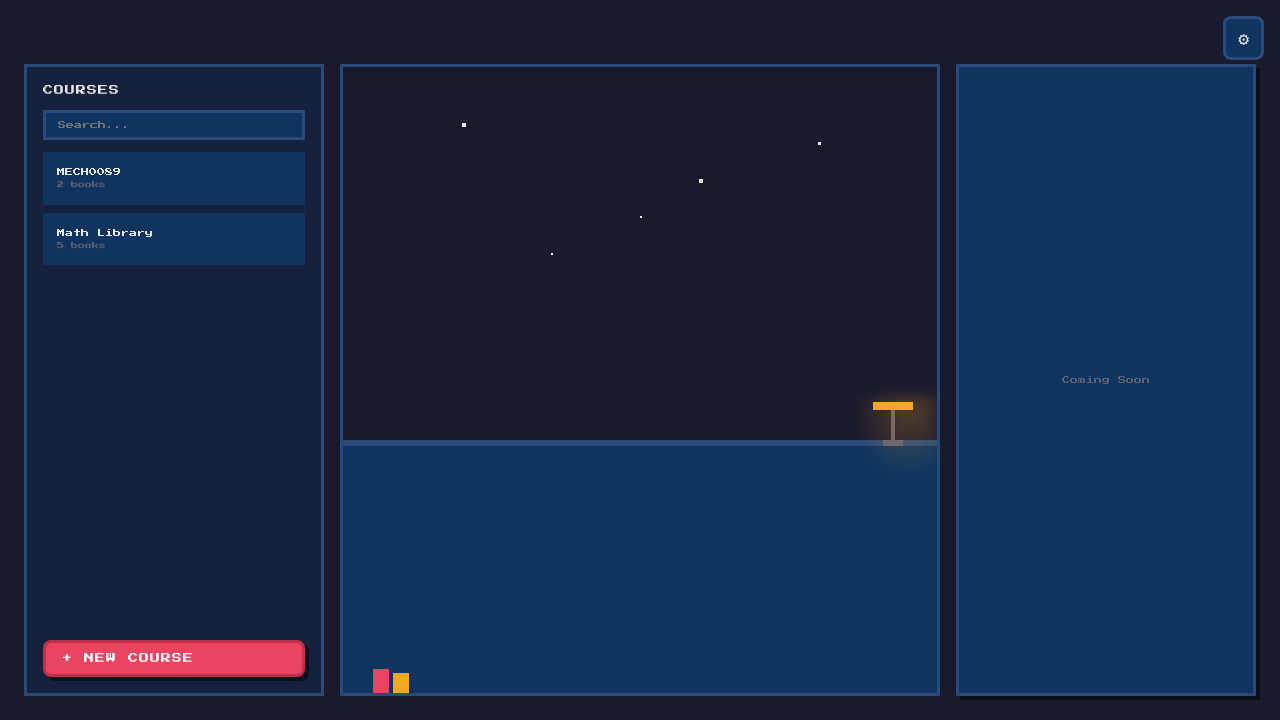
Test: BookshelfPage › Upload dialog opens at choice step with two upload type buttons
Click the button titled "MECH0089": (89, 172) [43, 152, 305, 204]
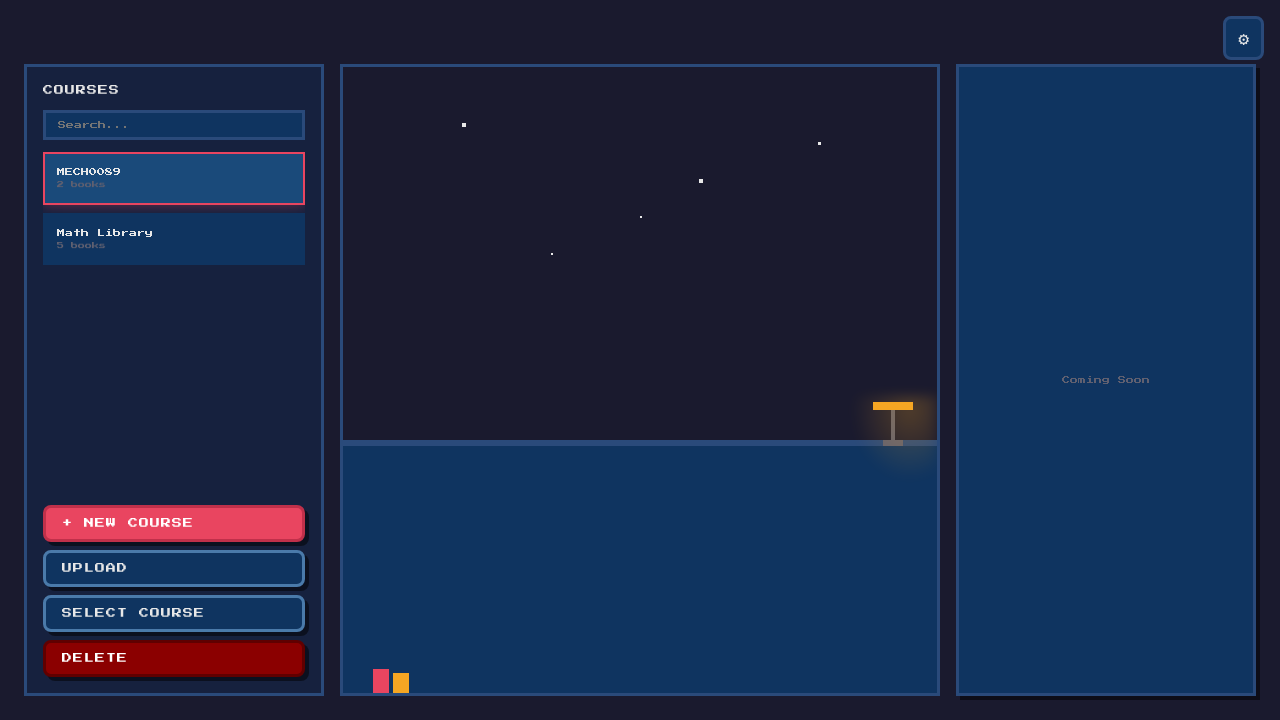
Click the button "Upload": (95, 568) [43, 550, 305, 587]
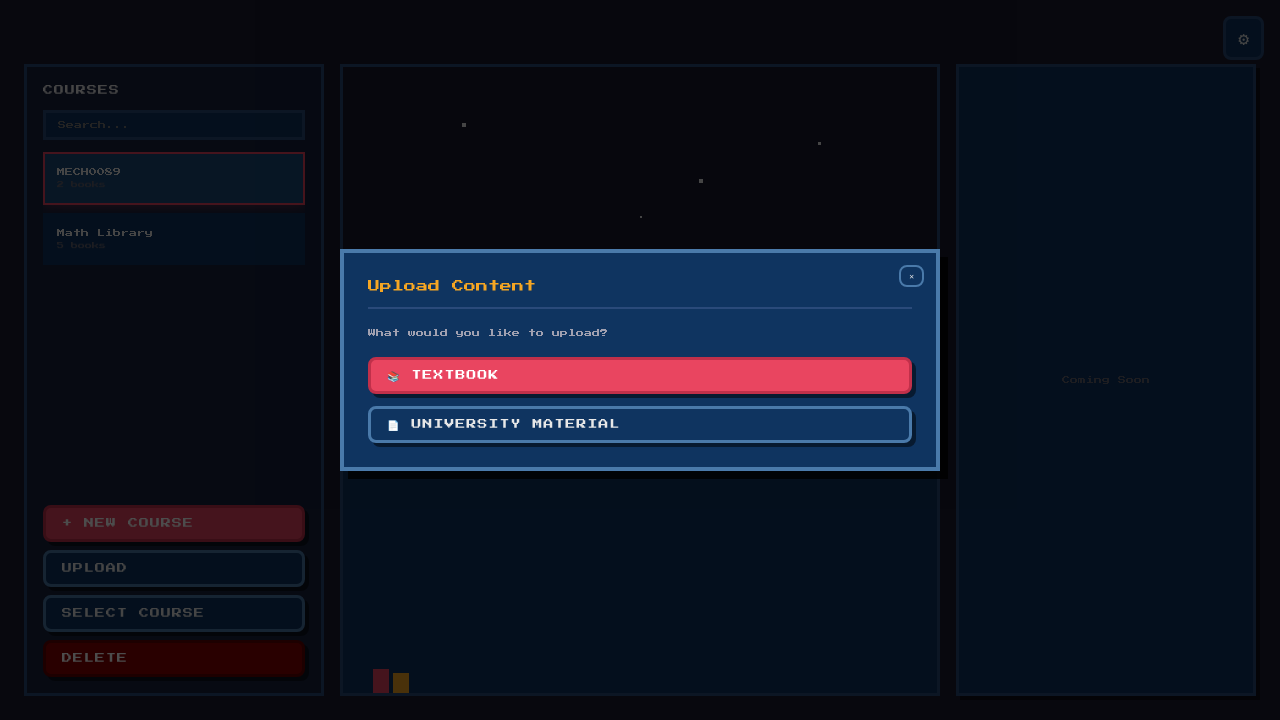
expect the text "Upload Content" is shown: met, box [368, 277, 912, 309]
expect the button "📚 Textbook" is shown: met, box [368, 357, 912, 394]
expect the button "📄 University Material" is shown: met, box [368, 406, 912, 443]
